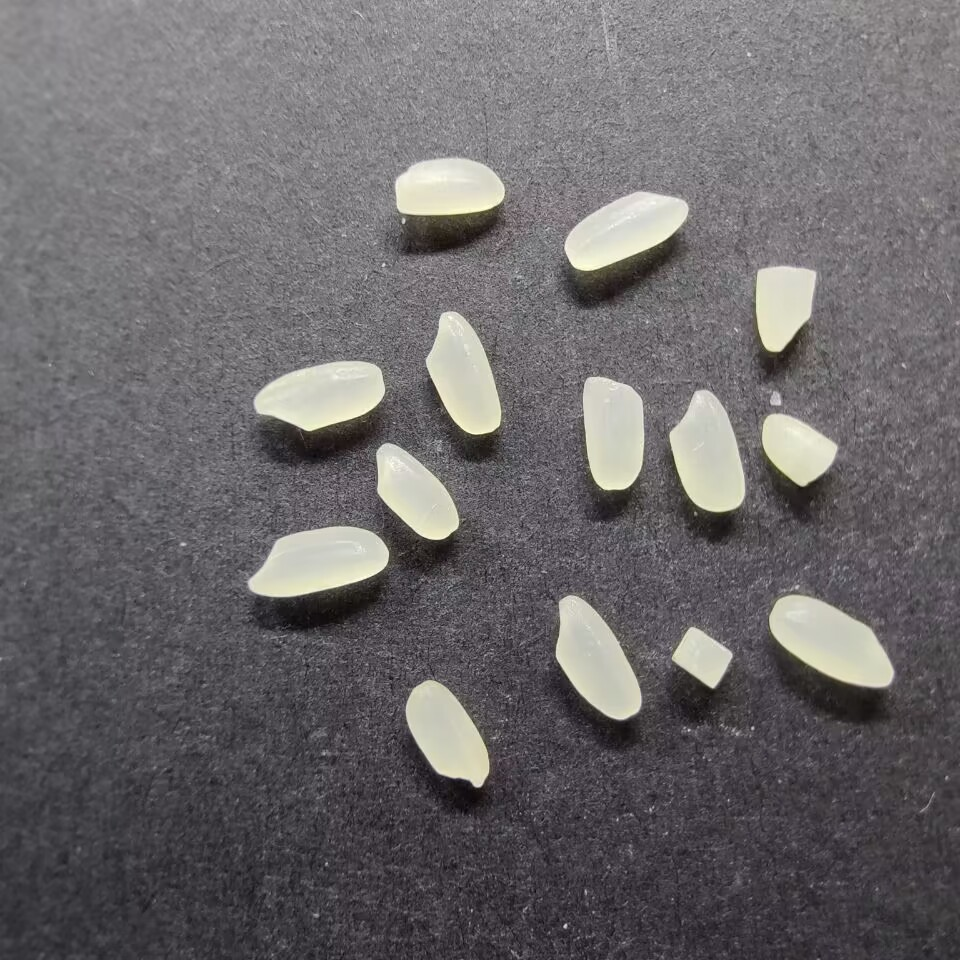broken: (760, 410, 841, 489), (753, 264, 819, 354), (668, 624, 736, 693)
rice: (766, 592, 896, 690), (553, 593, 642, 721), (245, 524, 390, 599), (563, 190, 690, 272), (423, 308, 504, 436), (403, 677, 491, 790), (252, 359, 385, 433), (668, 388, 746, 513), (372, 440, 459, 541), (580, 375, 647, 492), (393, 157, 506, 219)
